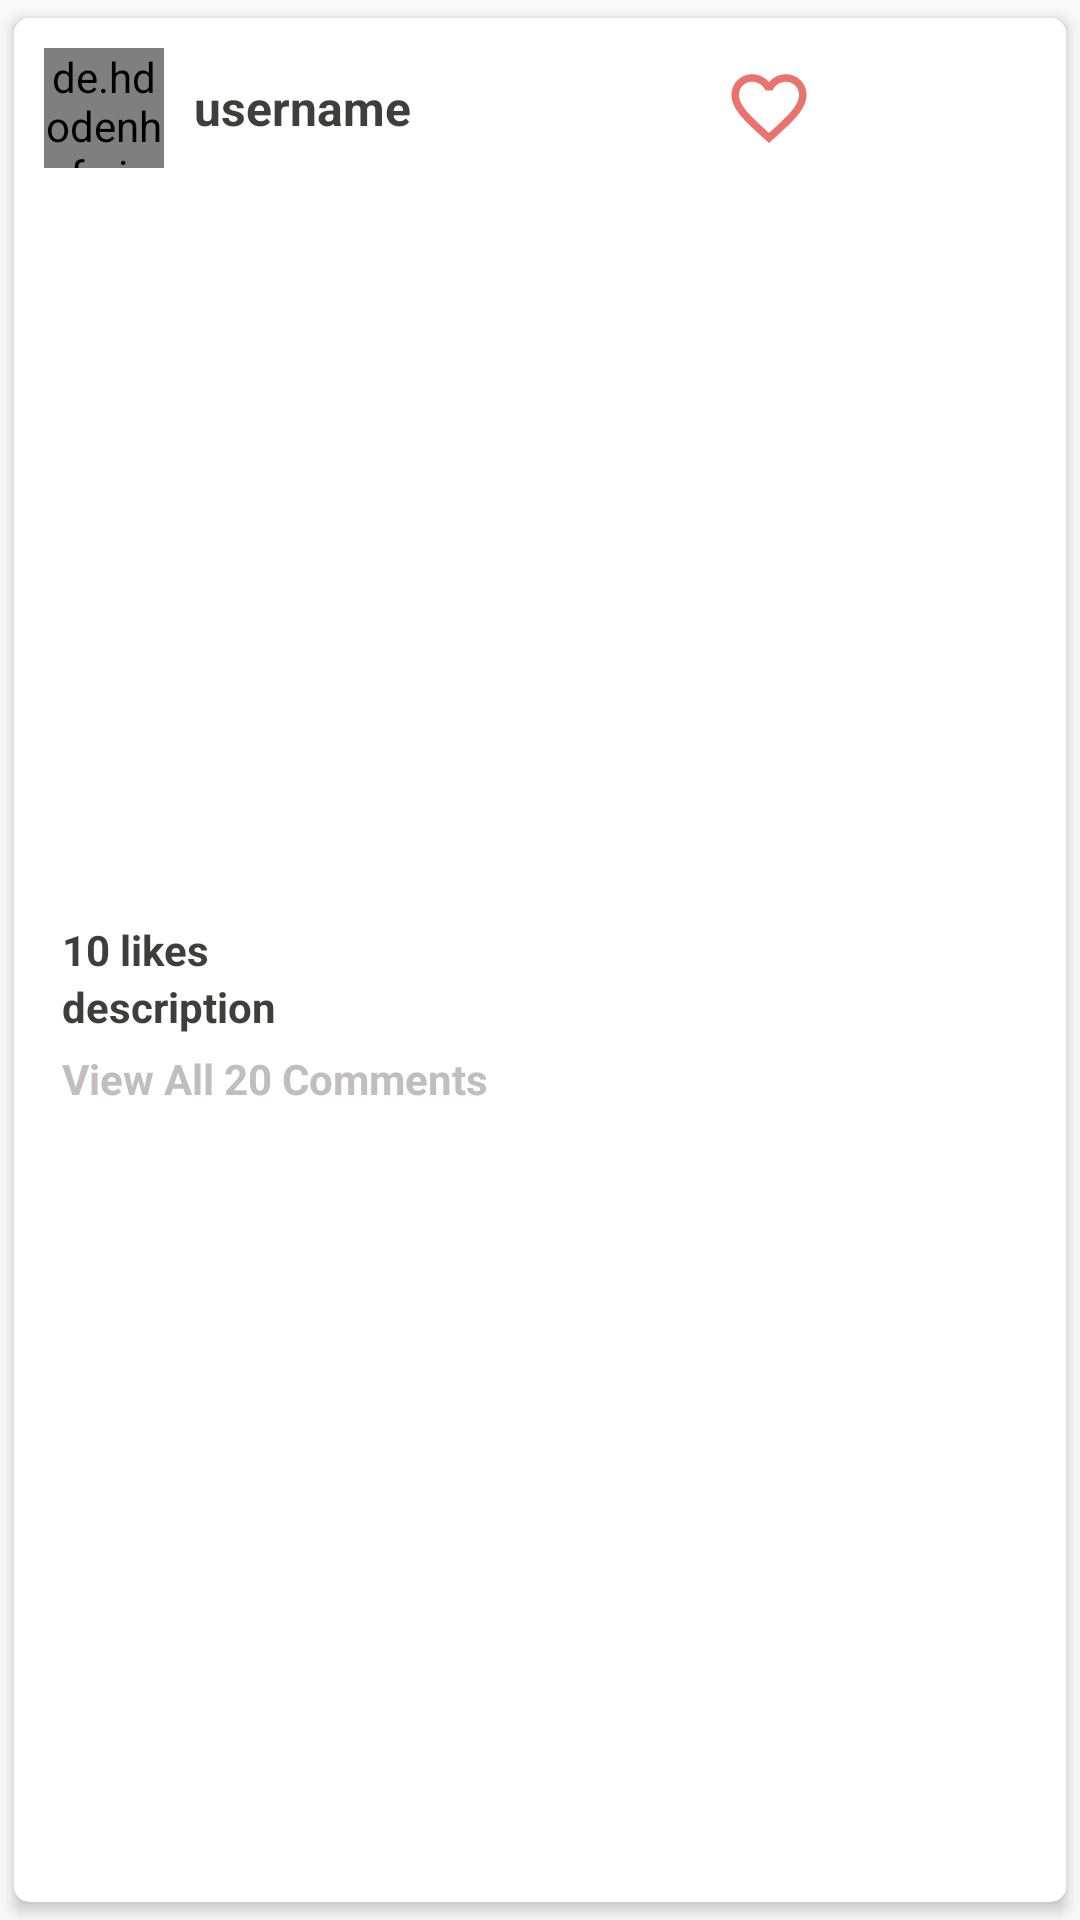

Point at icon controls on the screen. Image size 1080px×1920px, points as (x,y).
like: (769,108)
